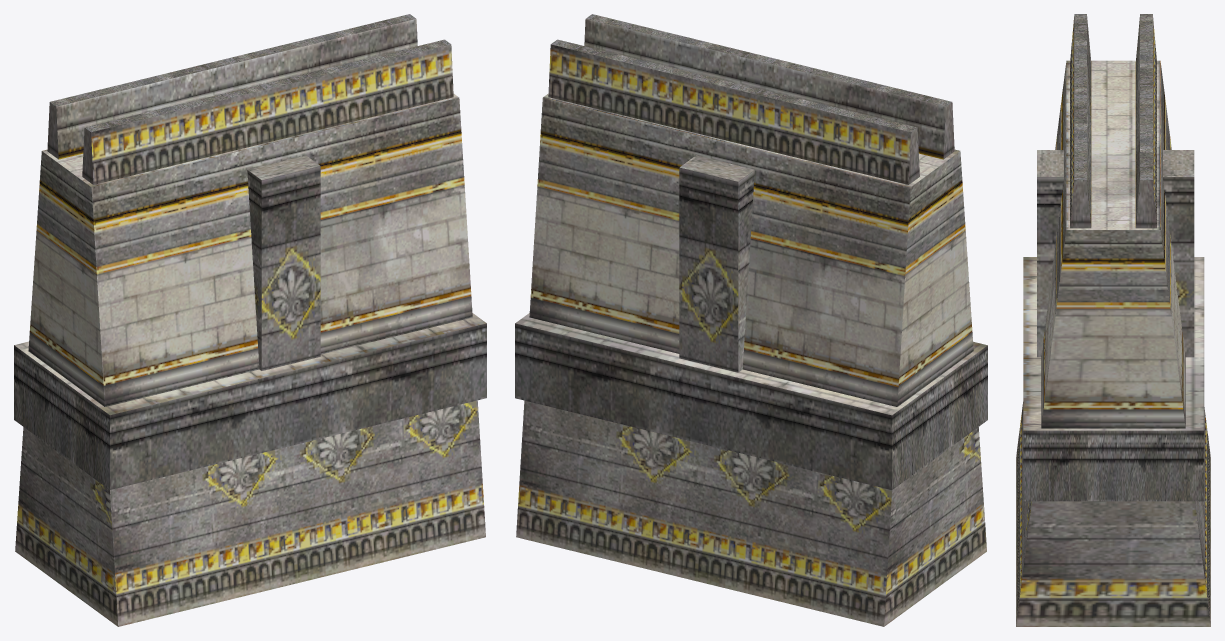
Rendered from idle.glb.
The picture shows the model from 3 angles, left to right: view 1: azimuth 30°, elevation 25°; view 2: azimuth 150°, elevation 25°; view 3: azimuth 270°, elevation 25°; orthographic projection. The views are drawn at different scales.
Visible parts, largest first — view 1: MeshRoot; view 2: MeshRoot; view 3: MeshRoot.
Boxes of the visible parts, <box> form: MeshRoot: <box>14,14,486,626</box>; MeshRoot: <box>515,14,987,626</box>; MeshRoot: <box>1016,14,1210,626</box>.
Bounding box in the file's own units: 7.72 × 9.22 × 3.66.
2 materials, 2 textured.
